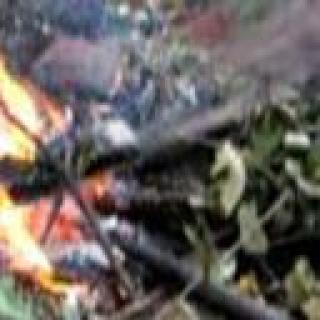fire: (0, 35, 94, 294)
